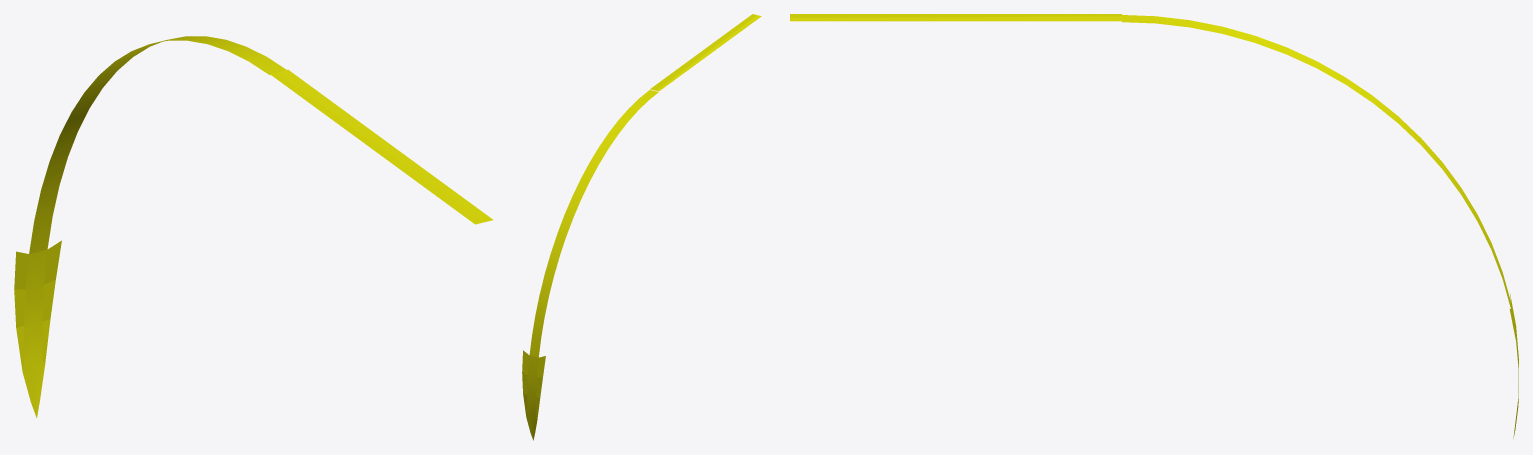
The model's file is arrow_2.fbx.
3 renders of one model, left to right at view 1: azimuth 30°, elevation 25°; view 2: azimuth 150°, elevation 25°; view 3: azimuth 270°, elevation 25°, orthographic. The views are drawn at different scales.
Visible parts, largest first — view 1: arrowTip, arrowBody, arrowStraigghtBody; view 2: arrowBody, arrowTip, arrowStraigghtBody; view 3: arrowBody, arrowStraigghtBody.
Part boxes in pixels (bbox=[...]): arrowTip: bbox=[14, 240, 61, 418]; arrowBody: bbox=[29, 36, 286, 253]; arrowStraigghtBody: bbox=[270, 69, 492, 224]; arrowBody: bbox=[529, 90, 658, 357]; arrowTip: bbox=[522, 350, 545, 440]; arrowStraigghtBody: bbox=[650, 14, 761, 91]; arrowBody: bbox=[1122, 15, 1510, 308]; arrowStraigghtBody: bbox=[790, 14, 1121, 21].
Bounding box in the file's own units: 0.9467 × 10.33 × 16.12.
